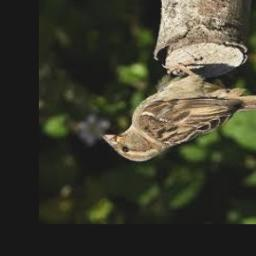Sparrow: (102, 65, 256, 162)
